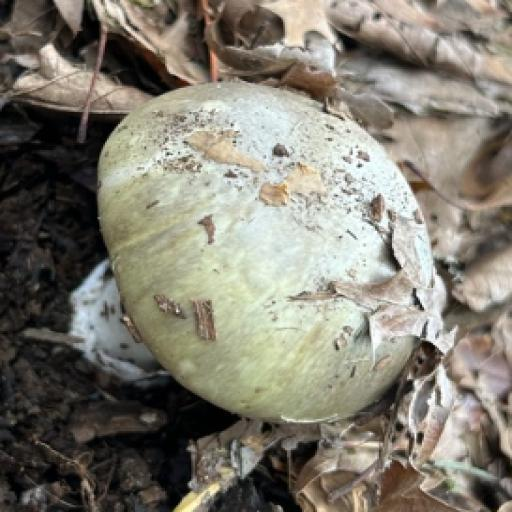mushroom: (48, 57, 475, 452)
